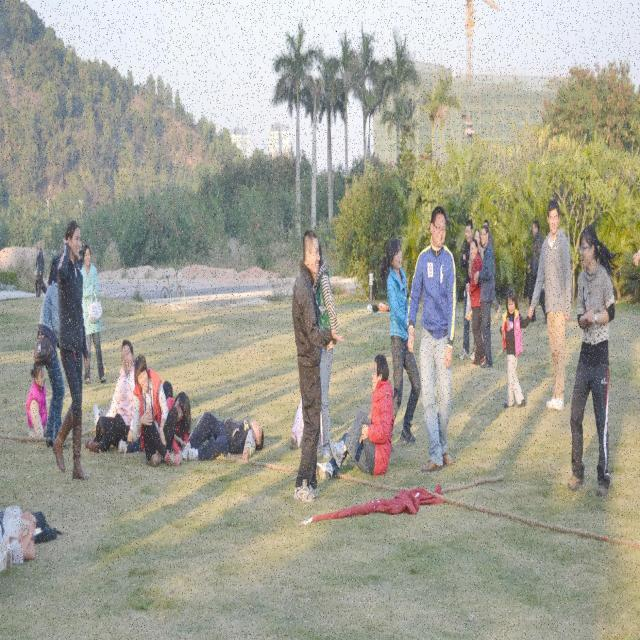fall: (334, 357, 392, 470), (176, 403, 268, 459)
